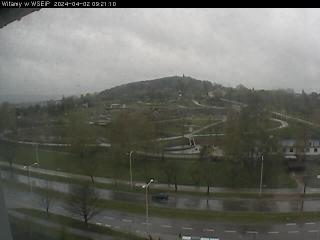car: (152, 192, 170, 202)
